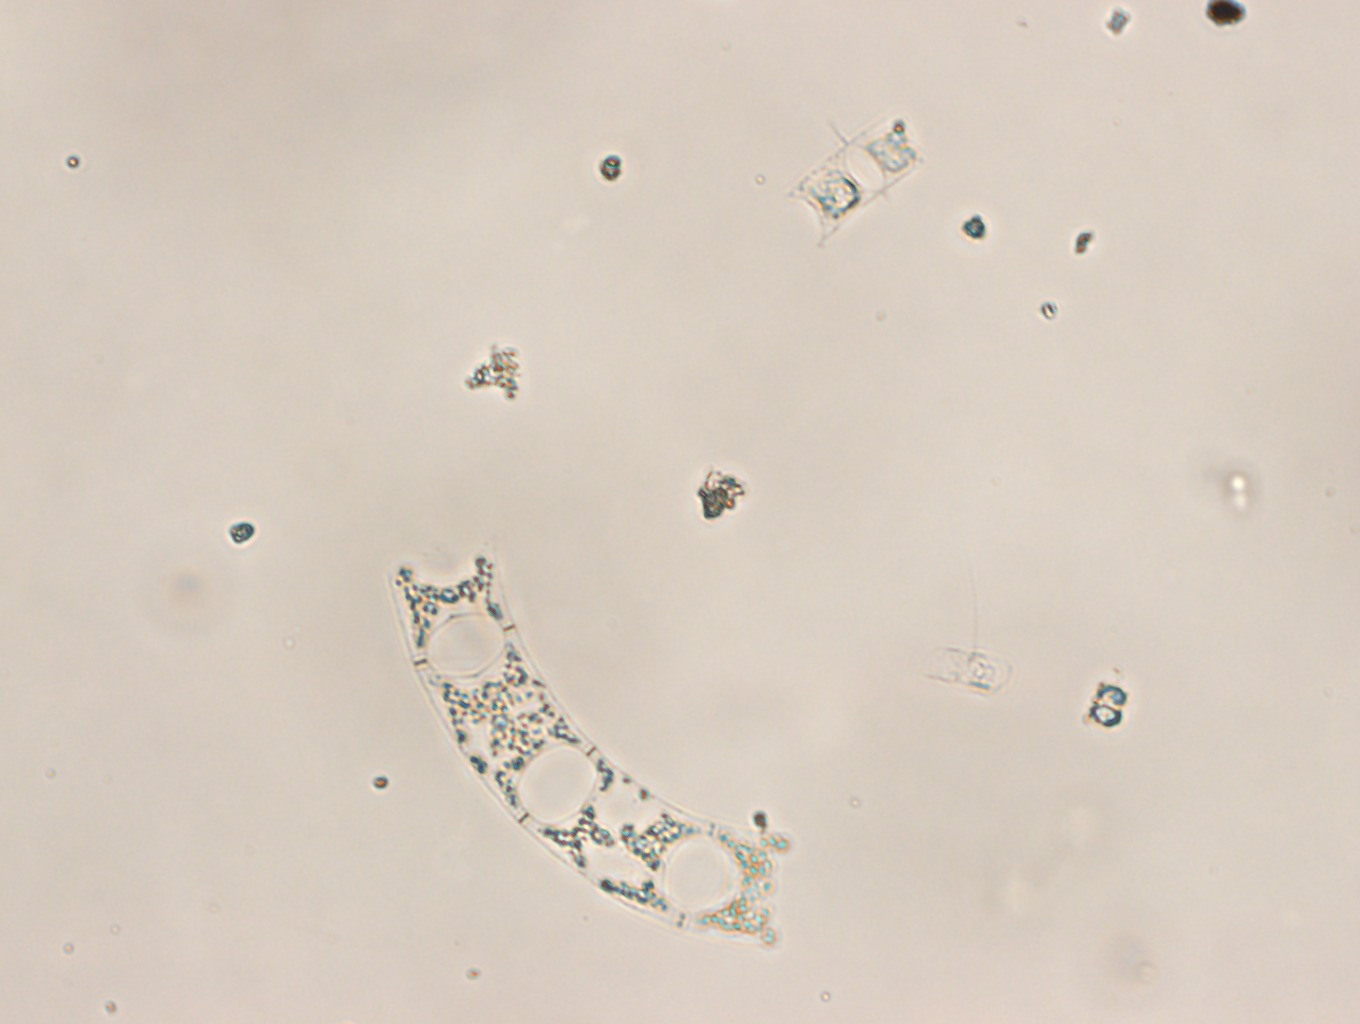chaetoceros: (785, 108, 922, 245)
eucampia: (387, 545, 790, 945)
